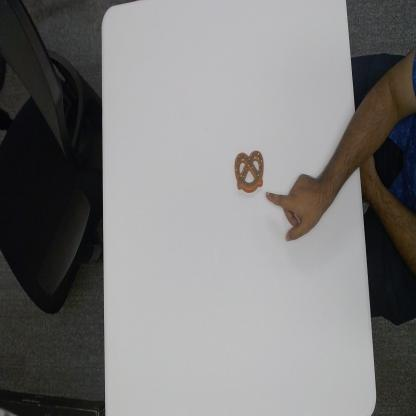Hand: (267, 168, 326, 244)
Pretzel: (232, 146, 266, 195)
